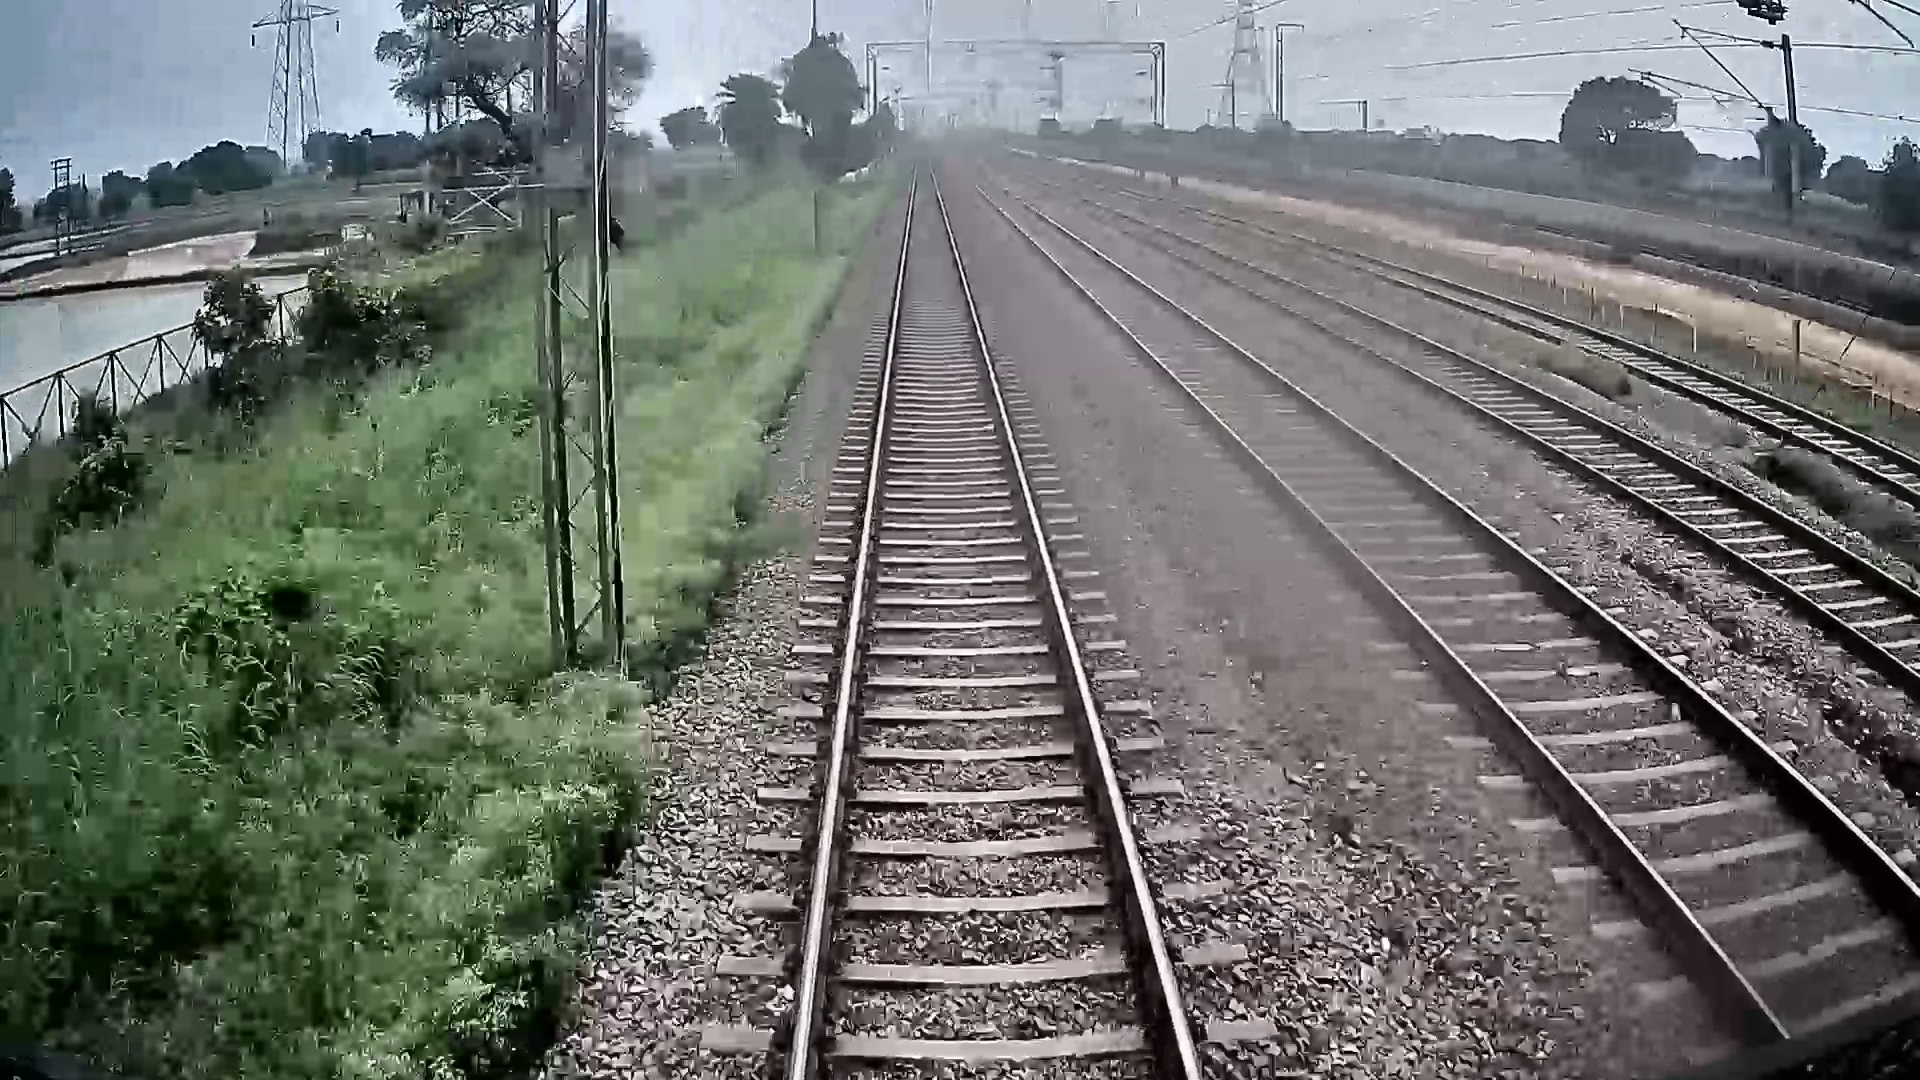track1: (798, 169, 1192, 1068)
track2: (975, 178, 1919, 1031)
track3: (1120, 220, 1917, 673)
track4: (1346, 257, 1917, 492)
